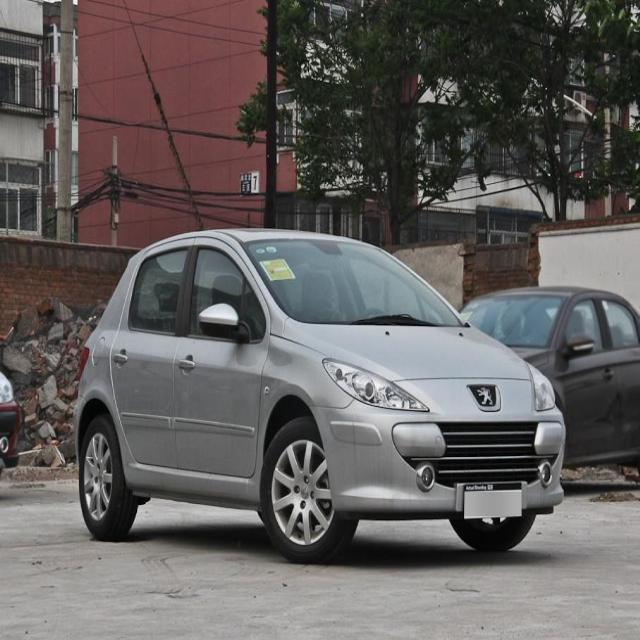back_right_side_light: (77, 344, 91, 386)
door: (111, 238, 198, 479)
front_bumper: (312, 414, 568, 514)
front_glass: (247, 241, 463, 326)
front_left_side_light: (528, 361, 556, 412)
front_right_side_door: (166, 226, 267, 509)
front_right_side_light: (322, 356, 431, 414)
front_right_side_mirror: (198, 302, 250, 346)
wheel: (258, 409, 356, 555), (77, 409, 142, 539)
